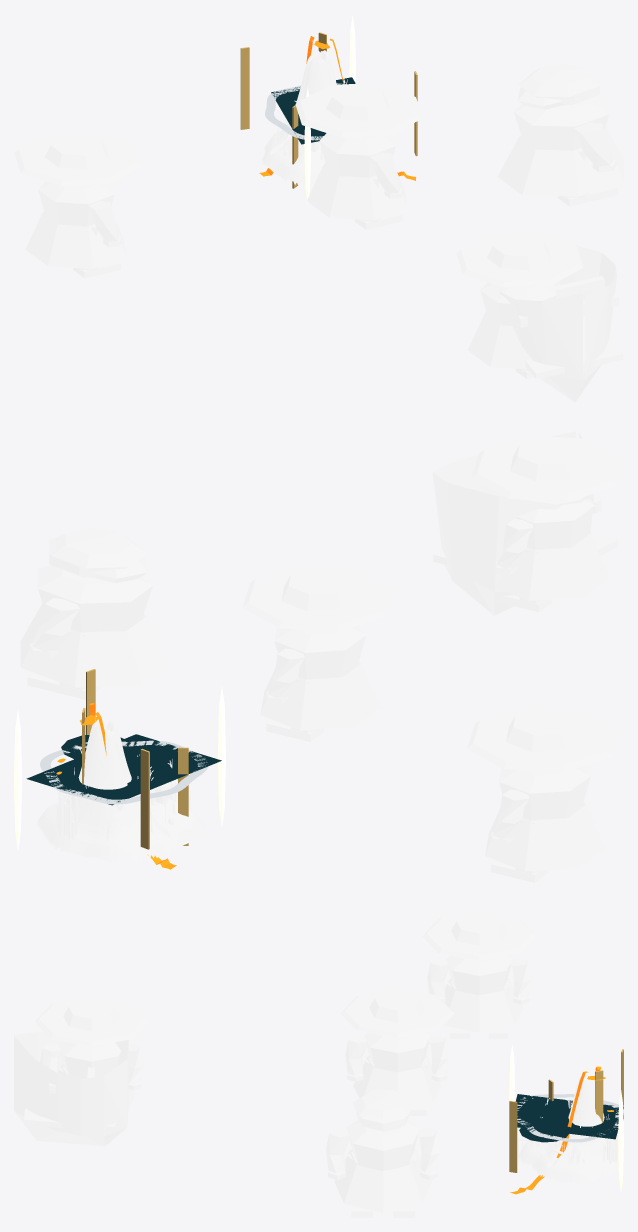
The model's file is ile-braise-v5.glb.
3 views of the same model, one above another, from view 1: azimuth 30°, elevation 25°; view 2: azimuth 150°, elevation 25°; view 3: azimuth 270°, elevation 25° (orthographic). The views are drawn at different scales.
Parts seen in each view (by area): view 1: ile_anime3.009, ile_copie0.006, ile_anime2.011, ile_anime0.011, ile_anime1.011, ile_corps.011, ile_vitres.007, ile_libre0.009, ile_lumieres.011; view 2: ile_anime3.009, ile_anime2.011, ile_copie0.006, ile_anime1.011, ile_corps.011, ile_anime0.011, ile_libre0.009, ile_lumieres.011, ile_vitres.007; view 3: ile_copie0.006, ile_anime3.009, ile_anime2.011, ile_anime0.011, ile_anime1.011, ile_corps.011, ile_libre0.009, ile_lumieres.011, ile_vitres.007.
Boxes of the visible parts, x1=… form: ile_anime3.009: x1=497, y1=63, x2=623, y2=206; ile_copie0.006: x1=14, y1=131, x2=141, y2=278; ile_anime2.011: x1=295, y1=82, x2=422, y2=229; ile_anime0.011: x1=498, y1=245, x2=623, y2=402; ile_anime1.011: x1=456, y1=232, x2=583, y2=379; ile_corps.011: x1=261, y1=40, x2=347, y2=185; ile_vitres.007: x1=240, y1=32, x2=417, y2=188; ile_libre0.009: x1=265, y1=77, x2=355, y2=144; ile_lumieres.011: x1=259, y1=15, x2=416, y2=205; ile_anime3.009: x1=20, y1=527, x2=172, y2=699; ile_anime2.011: x1=242, y1=565, x2=394, y2=741; ile_copie0.006: x1=467, y1=706, x2=619, y2=882; ile_anime1.011: x1=471, y1=435, x2=623, y2=612; ile_corps.011: x1=37, y1=714, x2=204, y2=864; ile_anime0.011: x1=432, y1=431, x2=617, y2=615; ile_libre0.009: x1=26, y1=734, x2=221, y2=805; ile_lumieres.011: x1=14, y1=686, x2=225, y2=869; ile_vitres.007: x1=82, y1=669, x2=188, y2=849; ile_copie0.006: x1=422, y1=911, x2=536, y2=1038; ile_anime3.009: x1=326, y1=1089, x2=440, y2=1217; ile_anime2.011: x1=340, y1=988, x2=454, y2=1115; ile_anime0.011: x1=14, y1=1031, x2=128, y2=1146; ile_anime1.011: x1=34, y1=996, x2=148, y2=1107; ile_corps.011: x1=517, y1=1069, x2=623, y2=1184; ile_libre0.009: x1=515, y1=1094, x2=623, y2=1142; ile_lumieres.011: x1=509, y1=1044, x2=623, y2=1194; ile_vitres.007: x1=509, y1=1049, x2=623, y2=1172.
Size of the model in its own units: 9.61 by 2.7 by 10.64.
